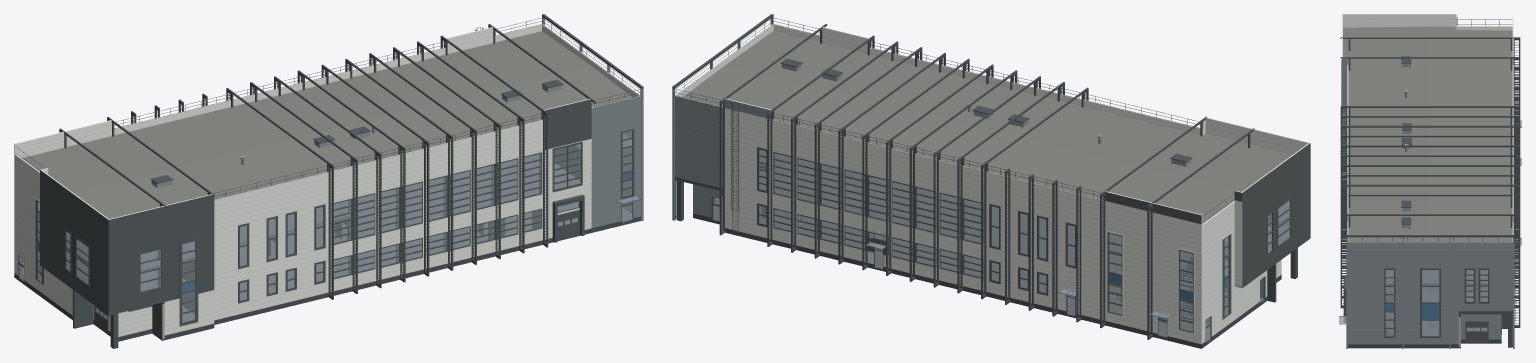
The model's file is industrial_building__architectural_study.glb.
3 views of the same model, side by side, from view 1: azimuth 30°, elevation 25°; view 2: azimuth 150°, elevation 25°; view 3: azimuth 270°, elevation 25° (orthographic). The views are drawn at different scales.
Visible parts, largest first — view 1: Building_0, Glass_1; view 2: Building_0, Glass_1; view 3: Building_0, Glass_1.
Part boxes in pixels (bbox=[...]): Building_0: bbox=[14, 14, 643, 348]; Glass_1: bbox=[19, 131, 640, 322]; Building_0: bbox=[672, 14, 1310, 348]; Glass_1: bbox=[713, 150, 1290, 341]; Building_0: bbox=[1339, 14, 1521, 348]; Glass_1: bbox=[1339, 121, 1521, 336].
Bounding box in the file's own units: 67.74 × 16.12 × 23.53.
Materials: 17 (16 with a texture image).
